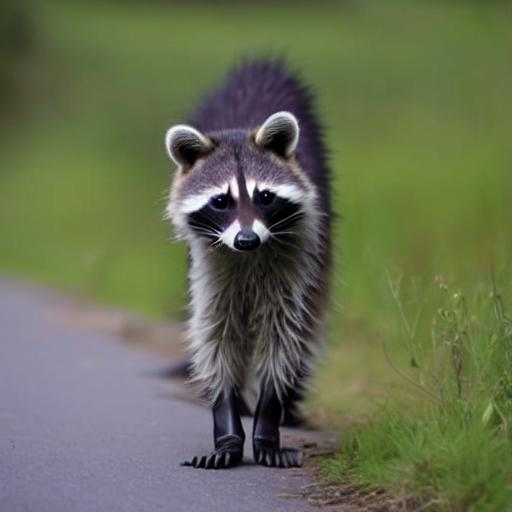raccoon: (160, 55, 337, 386)
